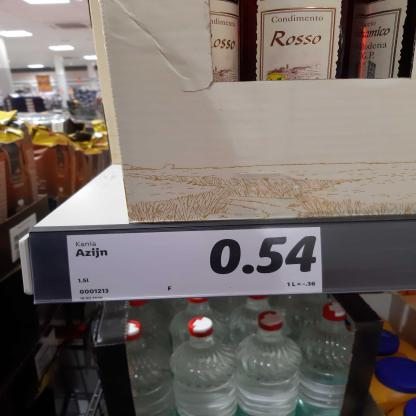prtg: (68, 228, 323, 303)
